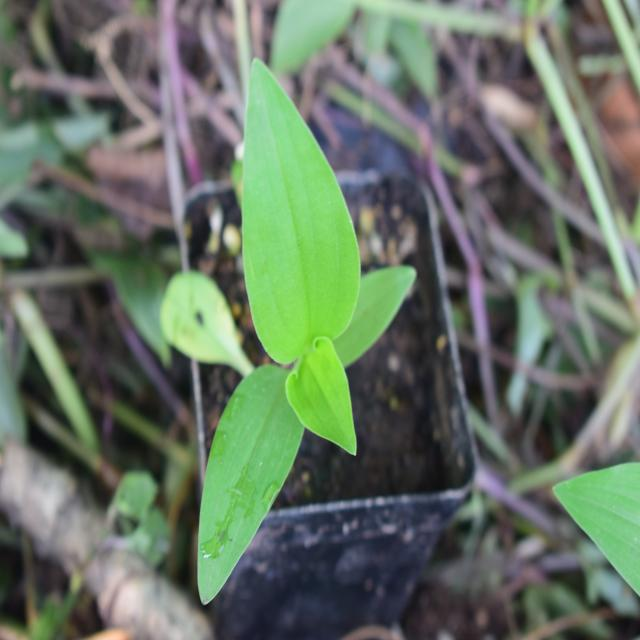Common Dayflower: (166, 52, 367, 586)
